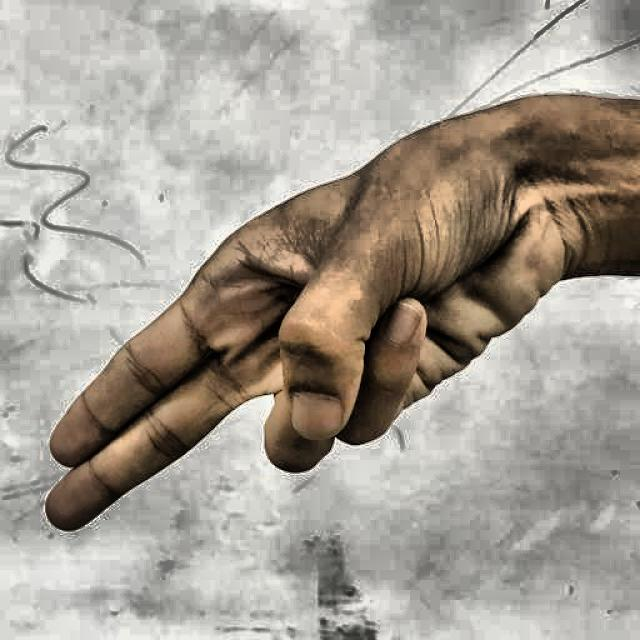Ha: (35, 81, 575, 594)
